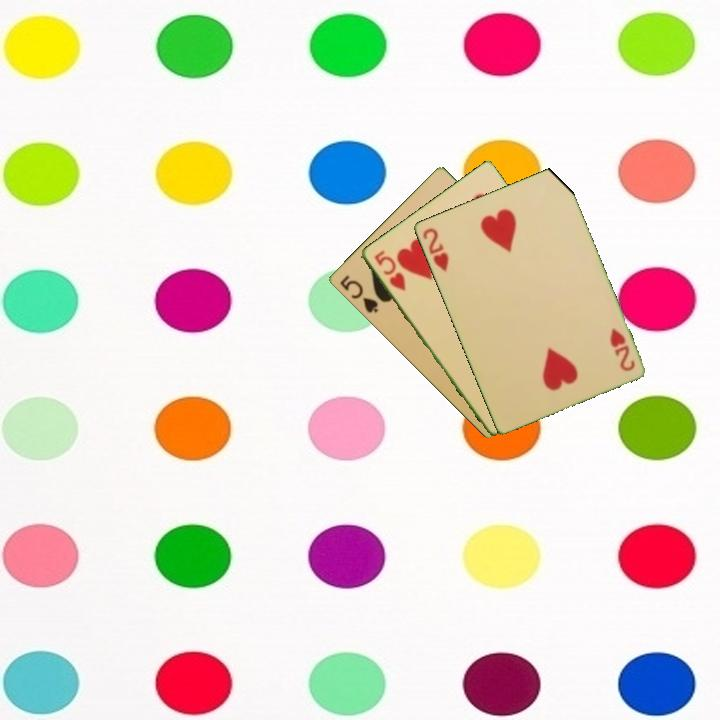2h: (418, 224, 452, 274), (606, 325, 637, 374)
5h: (370, 247, 408, 294)
5s: (336, 271, 381, 316)
